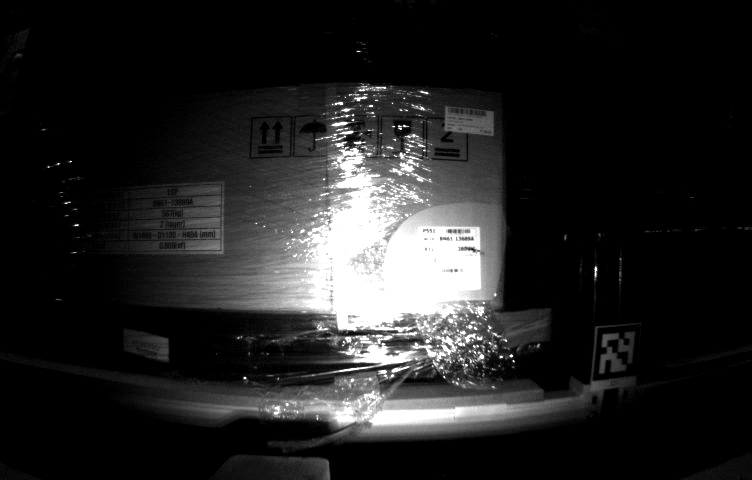True Barcode: (415, 225, 483, 296)
